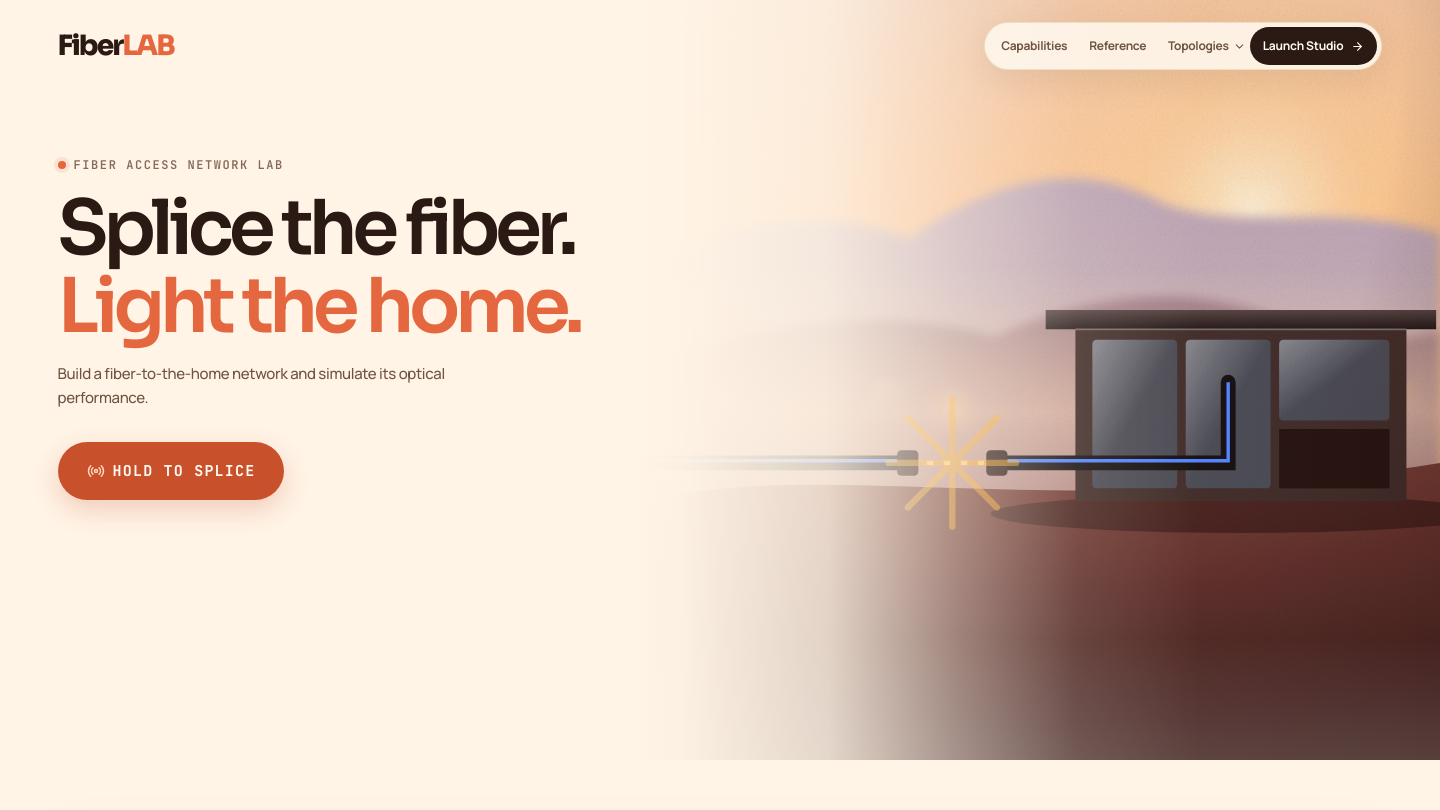
Test case: FiberLAB application shell › opens the workbench on an empty canvas with a friendly mission hint
This screenshot has width=1440, height=810.
Step 1. Click the button "Launch Studio" → (1314, 46), box [1250,27,1377,65]
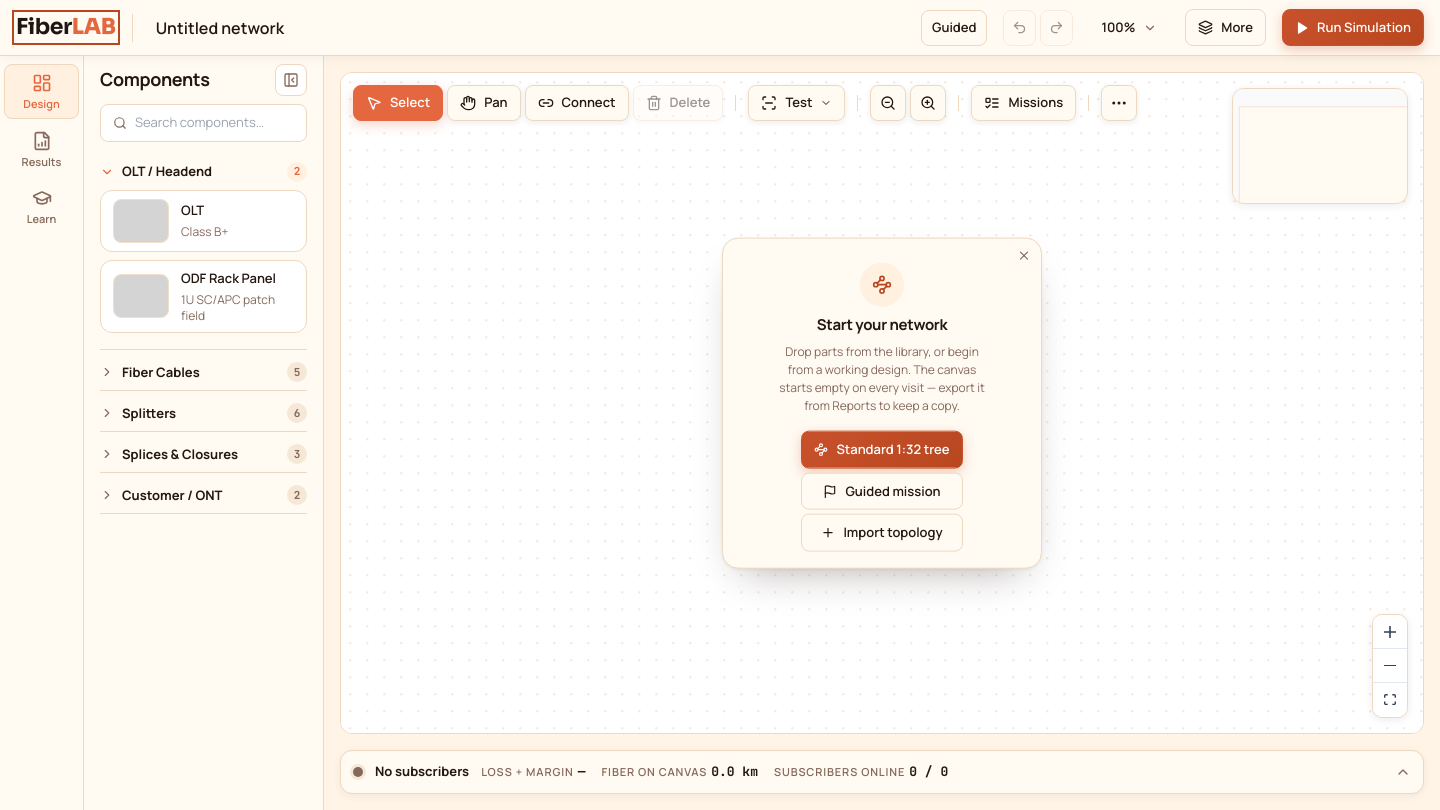
Expected: the button "Run Simulation" is shown, [1282,9,1424,46]
Expected: the text "Start your network" is shown, [817,315,947,335]
Expected: the text "Drop parts from the library, or begin from a working design" is shown, [779,343,985,414]
Step 2. Click the button "Guided mission" → (882, 491), box [801,472,963,510]
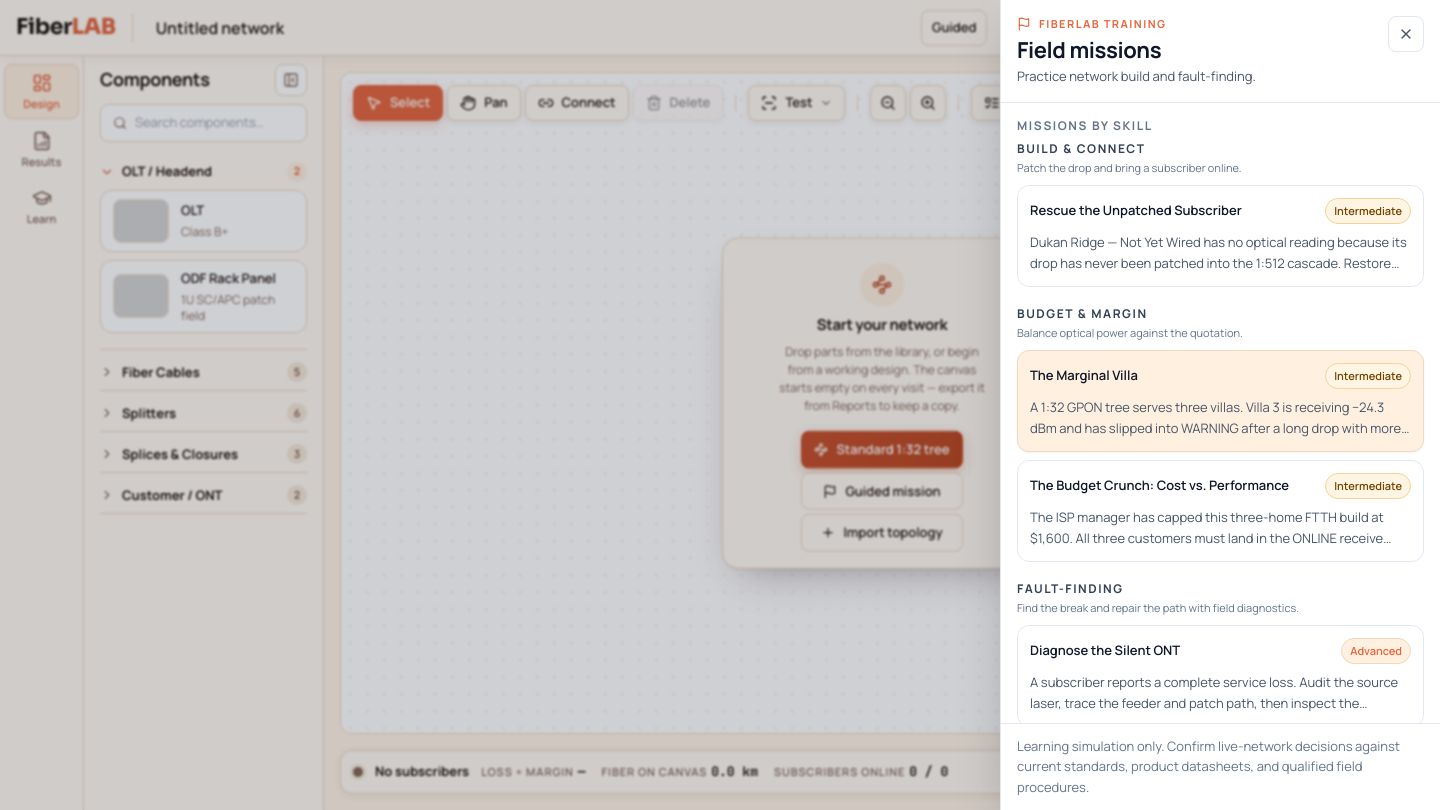
Expected: the dialog "Field missions" is shown, [1000,0,1439,809]
Step 3. Press Escape
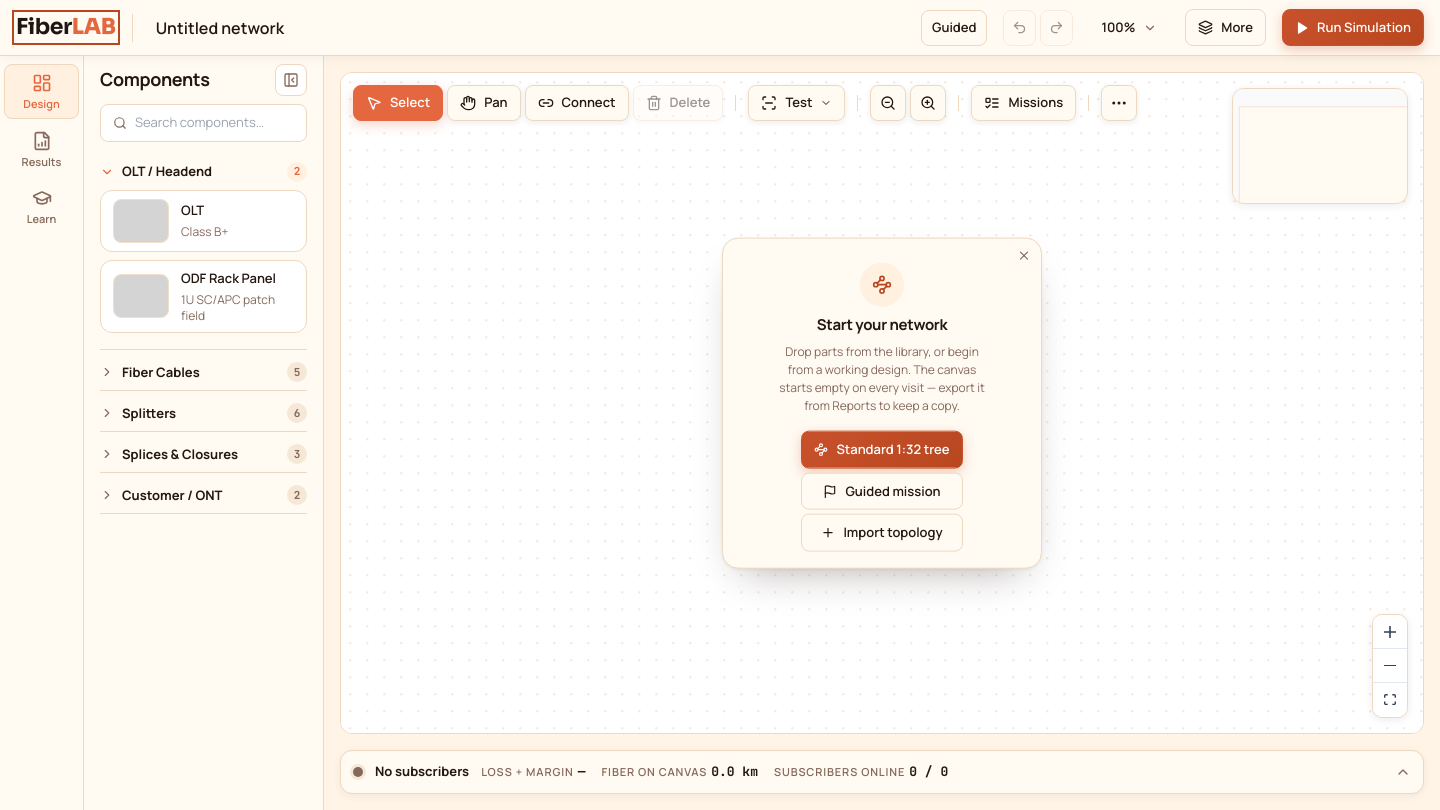
Expected: the heading "Field missions" is gone
Step 4. Click the button named "Dismiss canvas hint" → (1024, 256), box [1011,243,1037,269]
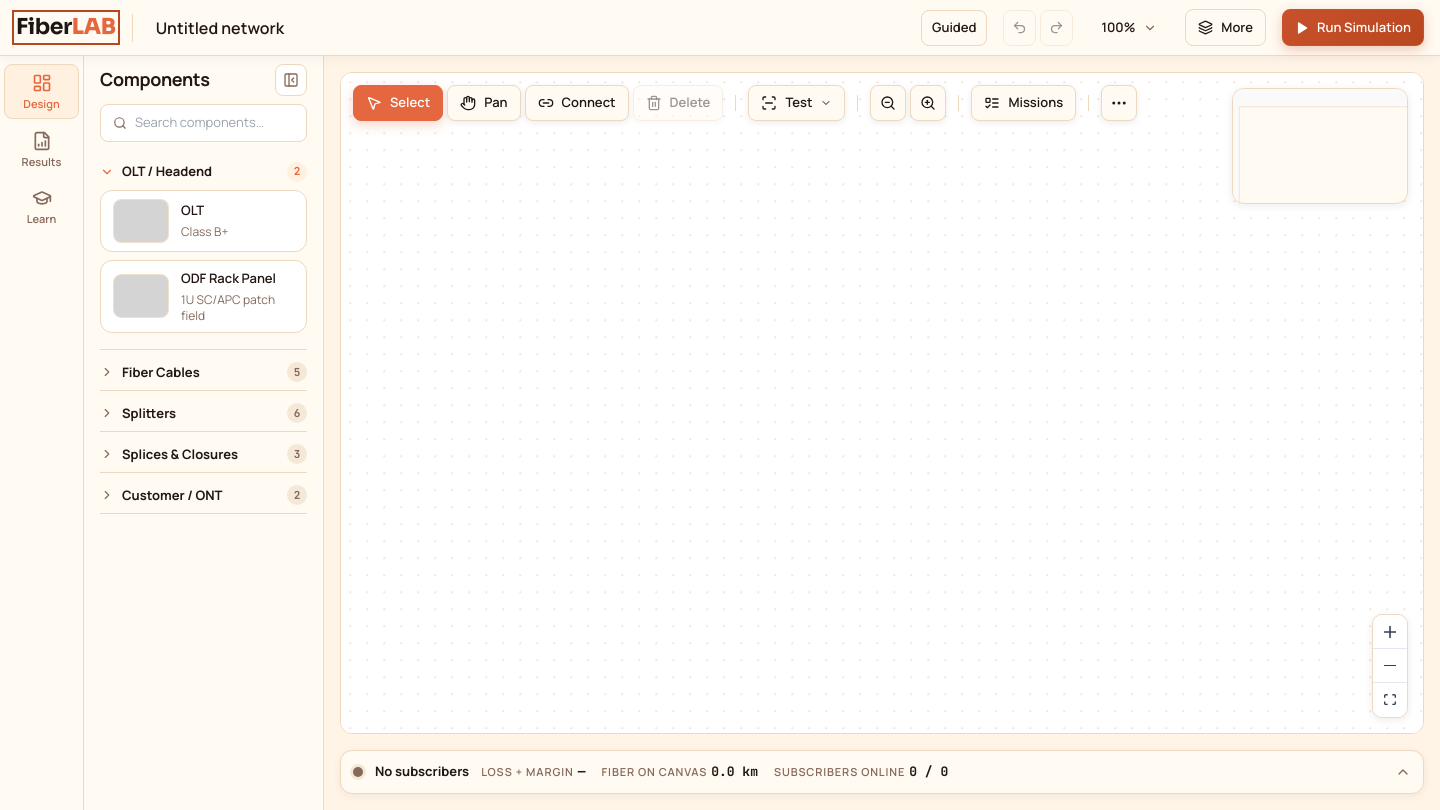
Expected: the text "Start your network" is gone
